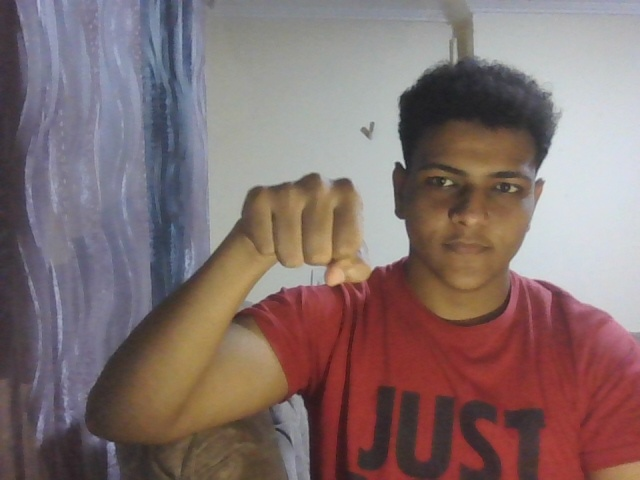yes: (232, 145, 377, 316)
